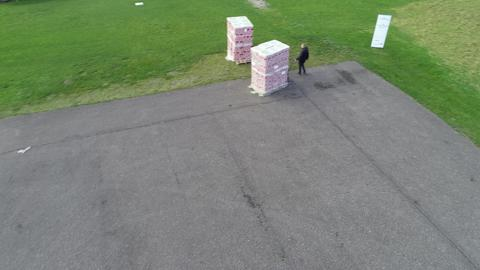RockwoolPallet: (225, 17, 253, 63)
